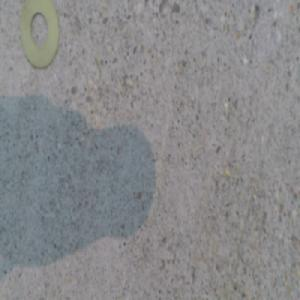Washer: (21, 0, 59, 69)
